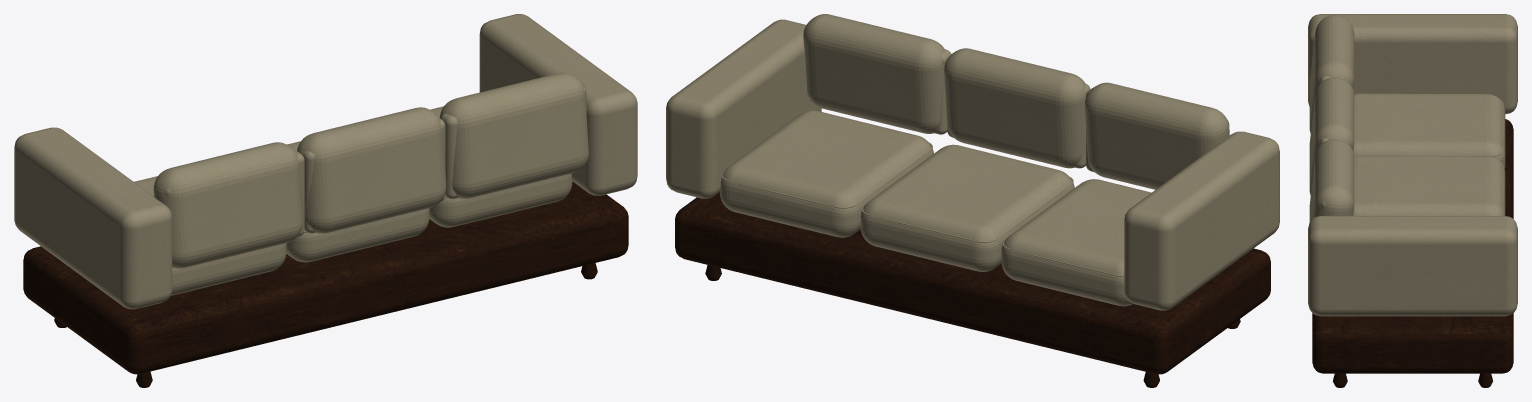
The model's file is luxury-track-three-seat.glb.
3 views of the same model, side by side, from view 1: azimuth 30°, elevation 25°; view 2: azimuth 150°, elevation 25°; view 3: azimuth 270°, elevation 25° (orthographic). The views are drawn at different scales.
Parts seen in each view (by area): view 1: linen_0, walnut_0; view 2: linen_0, walnut_0; view 3: linen_0, walnut_0.
Boxes of the visible parts, x1,y1,x2,y2 form: linen_0: (14, 14, 637, 309); walnut_0: (23, 181, 628, 387); linen_0: (666, 14, 1279, 310); walnut_0: (675, 192, 1270, 387); linen_0: (1308, 14, 1517, 316); walnut_0: (1312, 119, 1513, 387).
Bounding box in the file's own units: 2.55 × 1 × 1.01.
2 materials, 2 textured.
